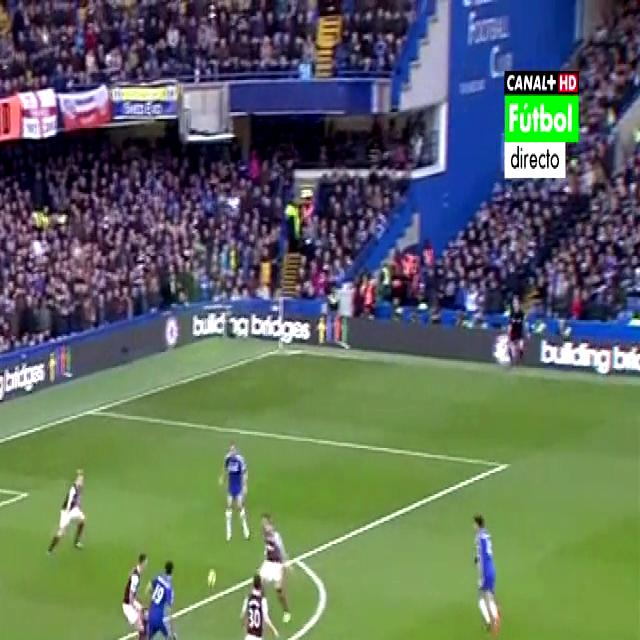ball: (201, 563, 222, 600)
referee: (498, 280, 531, 380)
soccer-player: (251, 516, 298, 632), (468, 505, 506, 640), (219, 419, 255, 547), (45, 462, 91, 559), (142, 553, 186, 640), (117, 533, 151, 640), (232, 579, 271, 640), (0, 522, 4, 640)
